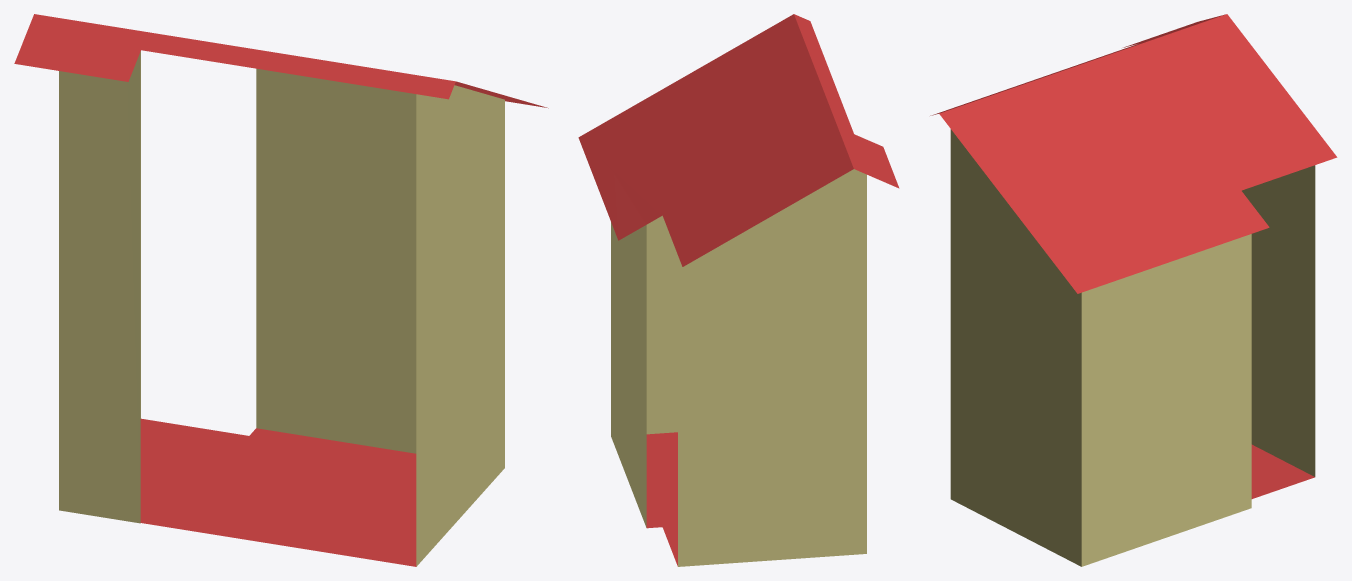
3 renders of one model, left to right at view 1: azimuth 30°, elevation 25°; view 2: azimuth 150°, elevation 25°; view 3: azimuth 270°, elevation 25°, orthographic. The views are drawn at different scales.
Bounding box in the file's own units: 7.72 × 7.16 × 7.7.
